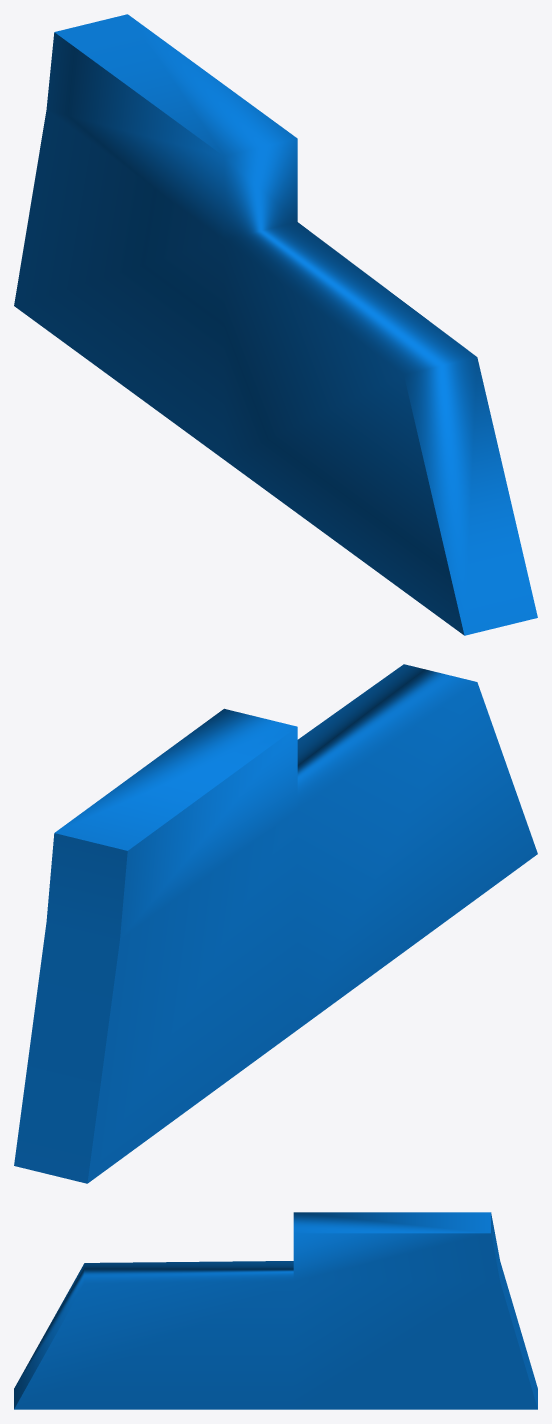
Rendered from Wall_Break_01D_Collider.fbx.
3 views of the same model, one above another, from view 1: azimuth 30°, elevation 25°; view 2: azimuth 150°, elevation 25°; view 3: azimuth 270°, elevation 25° (orthographic). The views are drawn at different scales.
Parts seen in each view (by area): view 1: Wall_Break_01D_Collider; view 2: Wall_Break_01D_Collider; view 3: Wall_Break_01D_Collider.
Part boxes in pixels (bbox=[...]): Wall_Break_01D_Collider: bbox=[14, 14, 537, 635]; Wall_Break_01D_Collider: bbox=[14, 664, 537, 1183]; Wall_Break_01D_Collider: bbox=[14, 1212, 537, 1409].
Size of the model in its own units: 102 by 403 by 1085.
